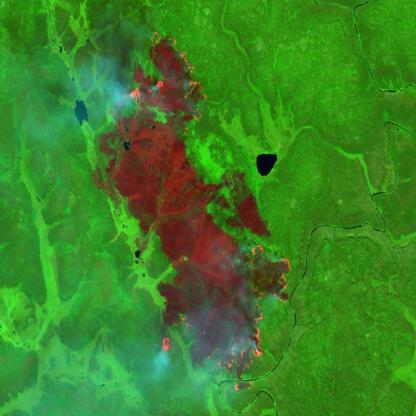fire: (147, 238, 297, 397), (127, 20, 218, 130)
